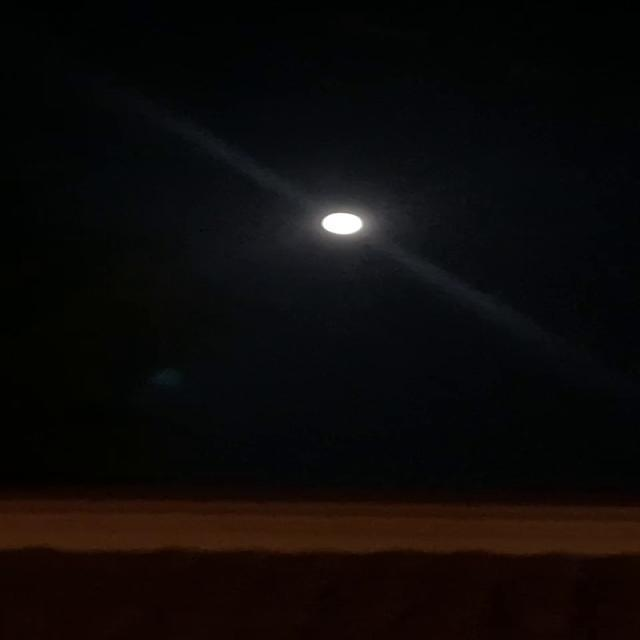moon: (313, 204, 384, 243)
